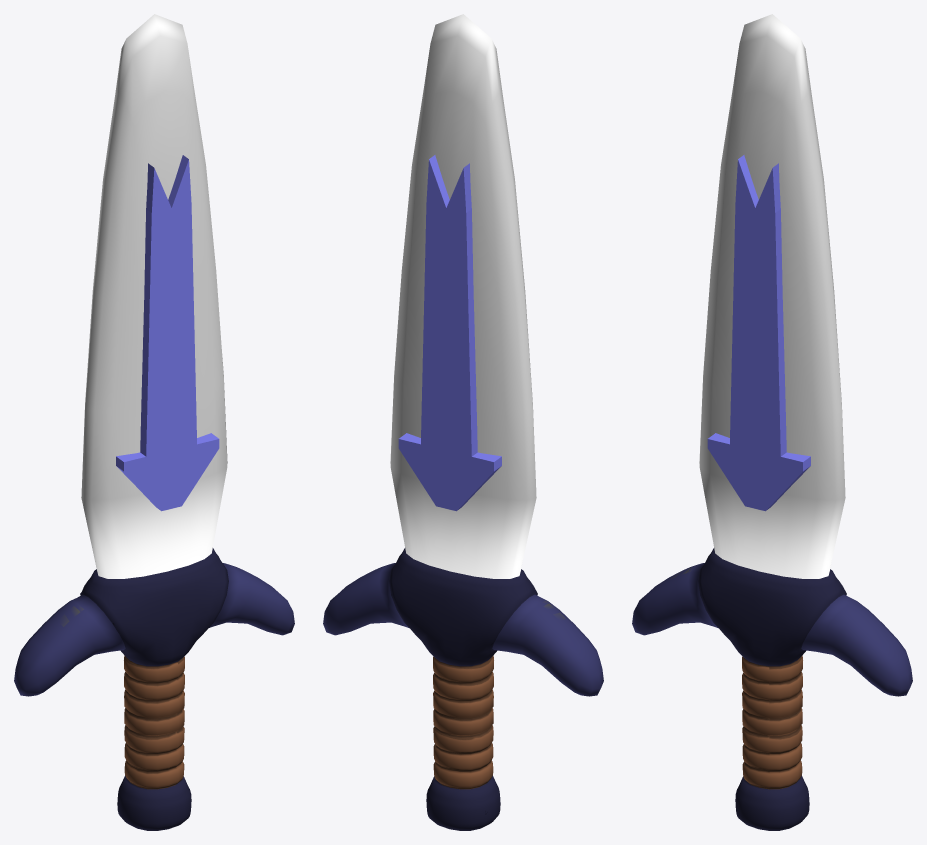
File: ShrinkSword.fbx
3 renders of one model, left to right at view 1: azimuth 30°, elevation 25°; view 2: azimuth 150°, elevation 25°; view 3: azimuth 330°, elevation 25°, orthographic.
Parts seen in each view (by area): view 1: ShrinkSword; view 2: ShrinkSword; view 3: ShrinkSword.
Part boxes in pixels (box(x1,y1,x2,y2)): ShrinkSword: box(14, 14, 294, 830); ShrinkSword: box(323, 14, 603, 830); ShrinkSword: box(632, 14, 912, 830).
Size of the model in its own units: 0.4121 by 1.16 by 0.0995.
